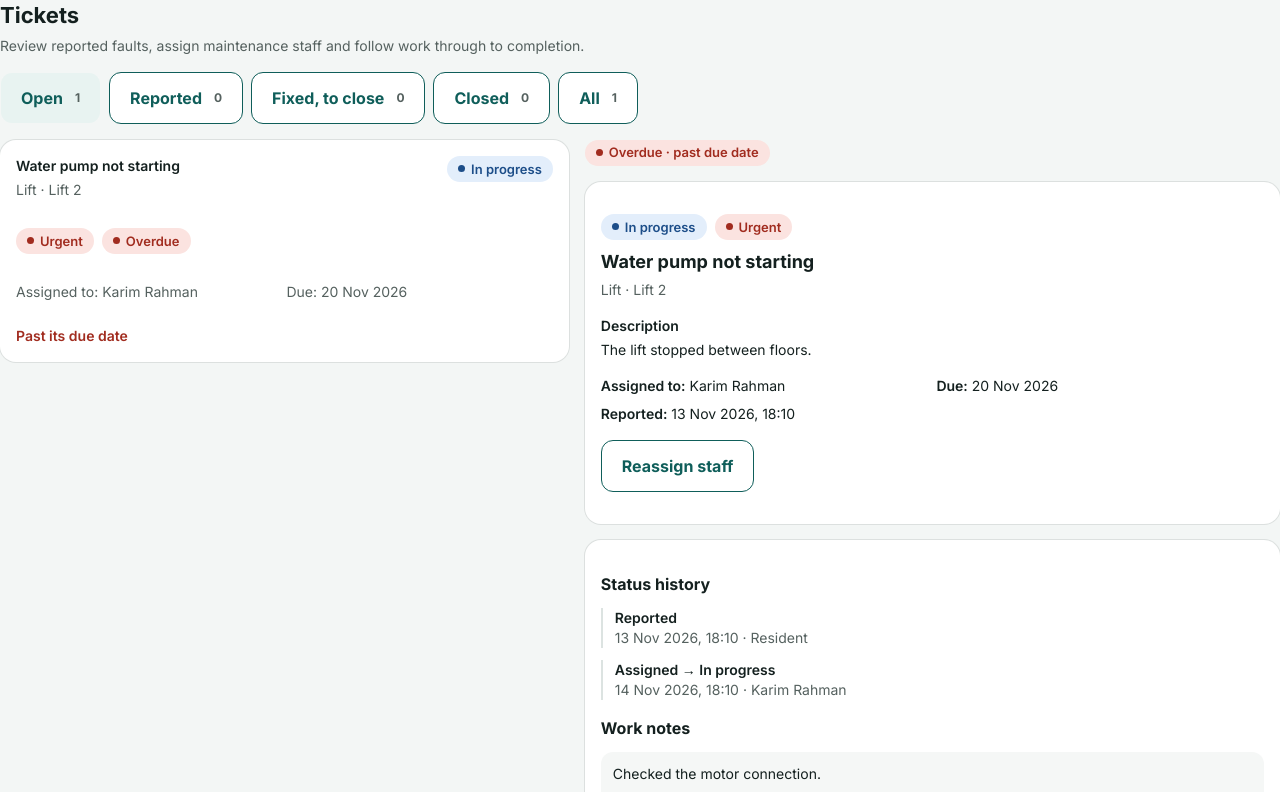
Test case: ManagerTickets › explains when no other active maintenance staff can receive the ticket
This screenshot has width=1280, height=792.
Click the button "Reassign staff" at (678,466), box [601,440,754,492]
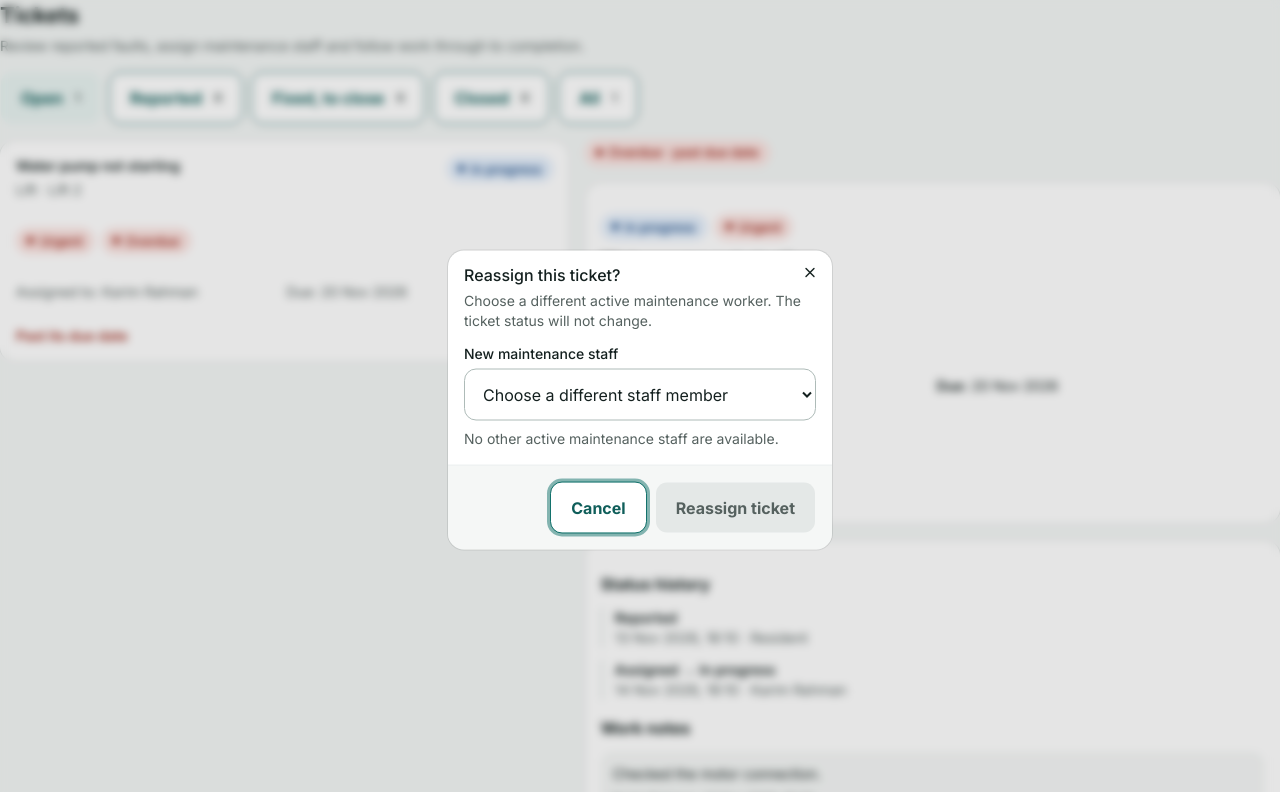
Check: the dialog shows "No other active maintenance staff are available.", box [464,430,779,446]
Check: the button "Reassign ticket" is disabled, box [655,482,816,534]
